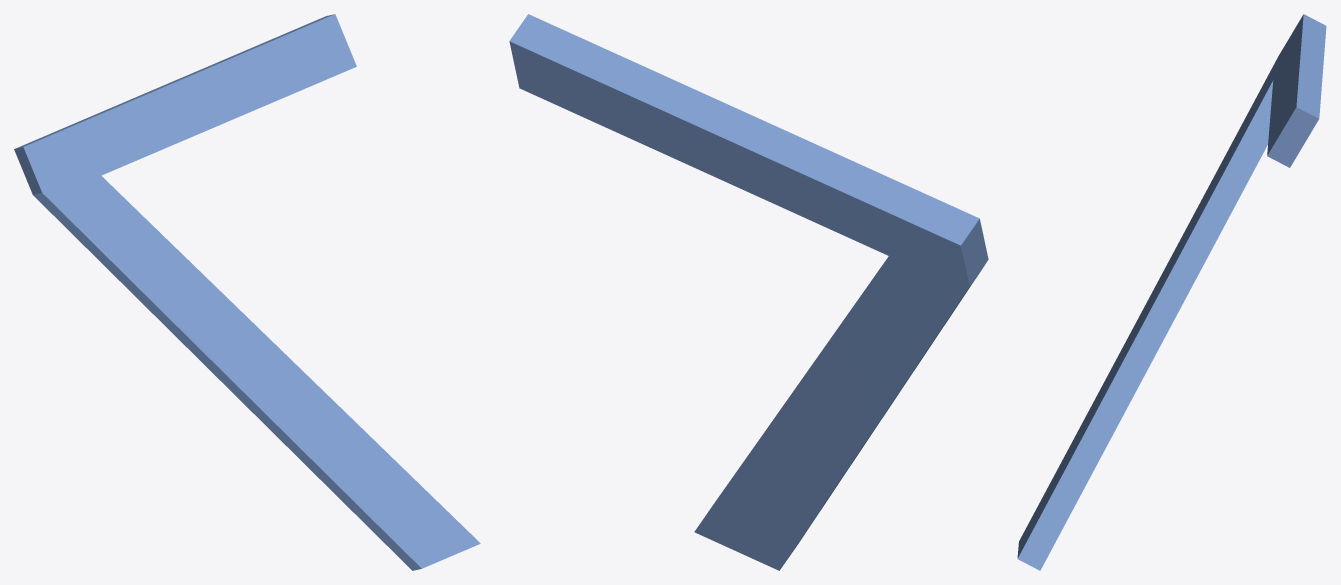
The model's file is New_Number_7.gltf.
The picture shows the model from 3 angles, left to right: view 1: azimuth 30°, elevation 25°; view 2: azimuth 150°, elevation 25°; view 3: azimuth 270°, elevation 25°; orthographic projection. The views are drawn at different scales.
Visible parts, largest first — view 1: Part 529; view 2: Part 529; view 3: Part 529.
Part boxes in pixels (x1,y1,x2,y2): Part 529: [14, 14, 480, 570]; Part 529: [509, 14, 988, 570]; Part 529: [1017, 14, 1326, 570].
Size of the model in its own units: 0.00374 by 0.00508 by 0.00303.
